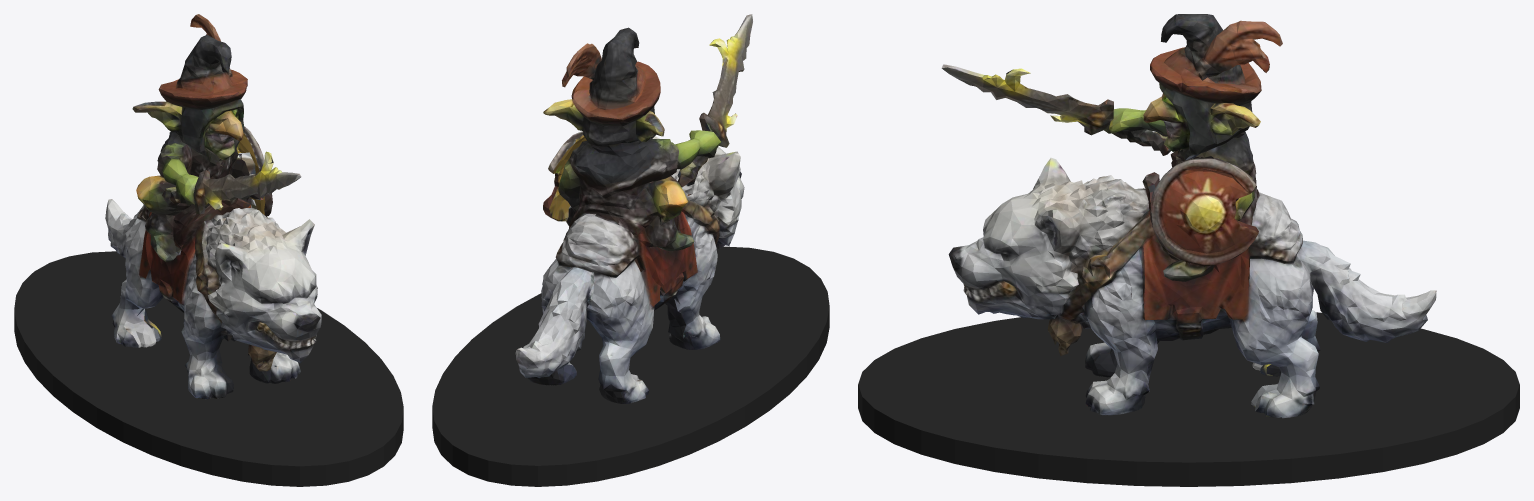
Rendered from glo-snarlboss.glb.
The picture shows the model from 3 angles, left to right: view 1: azimuth 30°, elevation 25°; view 2: azimuth 150°, elevation 25°; view 3: azimuth 270°, elevation 25°; orthographic projection. The views are drawn at different scales.
Visible parts, largest first — view 1: base, figure; view 2: base, figure; view 3: figure, base.
Boxes of the visible parts, x1,y1,x2,y2 form: base: (14,251,403,486); figure: (105,14,321,399); base: (432,246,829,486); figure: (515,14,752,403); figure: (941,14,1436,418); base: (858,312,1519,486).
Size of the model in its own units: 1.65 by 1.97 by 2.95.
Materials: 2 (1 with a texture image).
